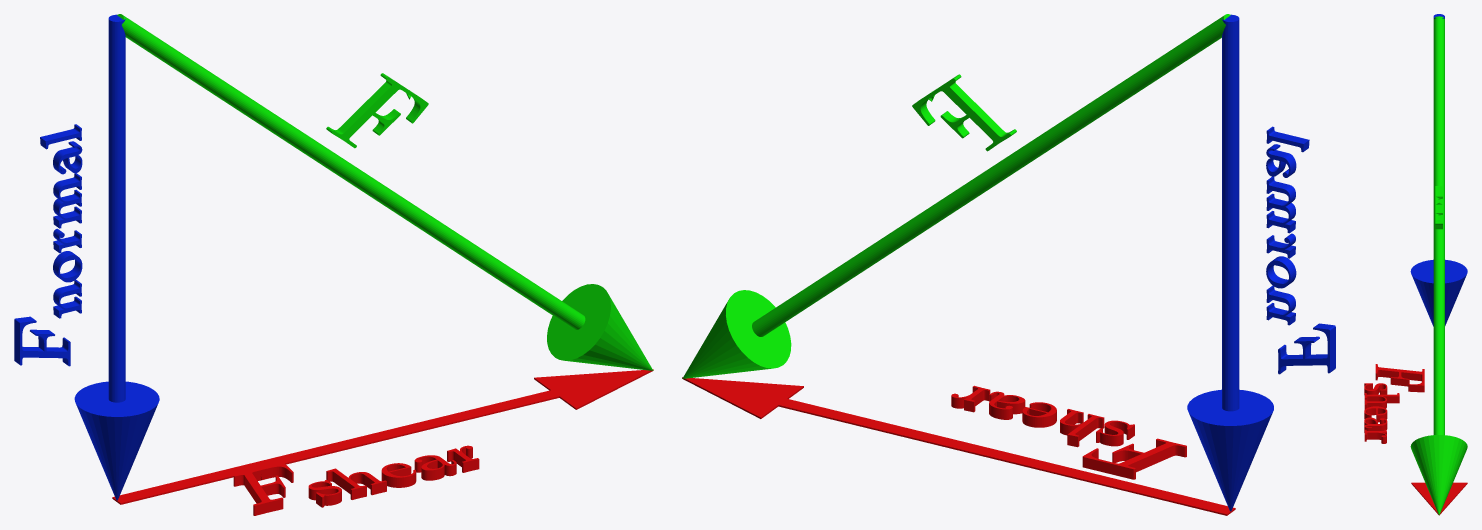
The model's file is forces.glb.
3 views of the same model, side by side, from view 1: azimuth 30°, elevation 25°; view 2: azimuth 150°, elevation 25°; view 3: azimuth 270°, elevation 25° (orthographic). The views are drawn at different scales.
Visible parts, largest first — view 1: Cone.002_Cone.003, Cone, Cone.001, Curve.002_Curve.008, Curve.001, Curve; view 2: Cone.002_Cone.003, Cone, Cone.001, Curve.002_Curve.008, Curve.001, Curve; view 3: Cone.002_Cone.003, Curve.002_Curve.008, Cone, Cone.001, Curve.
Part boxes in pixels (x1,y1,x2,y2): Cone.002_Cone.003: (117,14,653,370); Cone: (74,14,159,500); Cone.001: (112,369,653,504); Curve.002_Curve.008: (233,445,479,515); Curve.001: (14,124,82,366); Curve: (326,73,428,148); Cone.002_Cone.003: (682,14,1230,378); Cone: (1187,14,1273,511); Cone.001: (682,377,1235,515); Curve.002_Curve.008: (951,385,1186,479); Curve.001: (1266,126,1335,374); Curve: (912,74,1016,151); Cone.002_Cone.003: (1410,16,1467,515); Curve.002_Curve.008: (1364,364,1424,443); Cone: (1410,14,1467,326); Cone.001: (1411,482,1467,515); Curve: (1435,186,1442,229).
Size of what is drawn, in the model's own units: 0.6472 by 0.4736 by 0.136.
